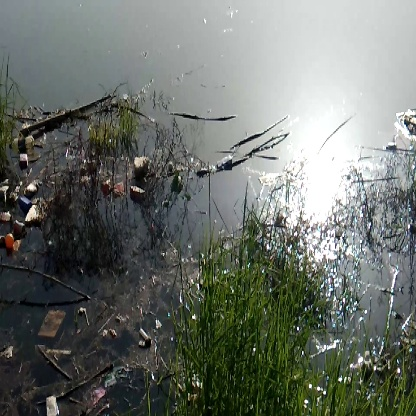branch: (17, 93, 119, 137)
